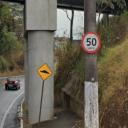speed_limit_50: (81, 31, 101, 54)
